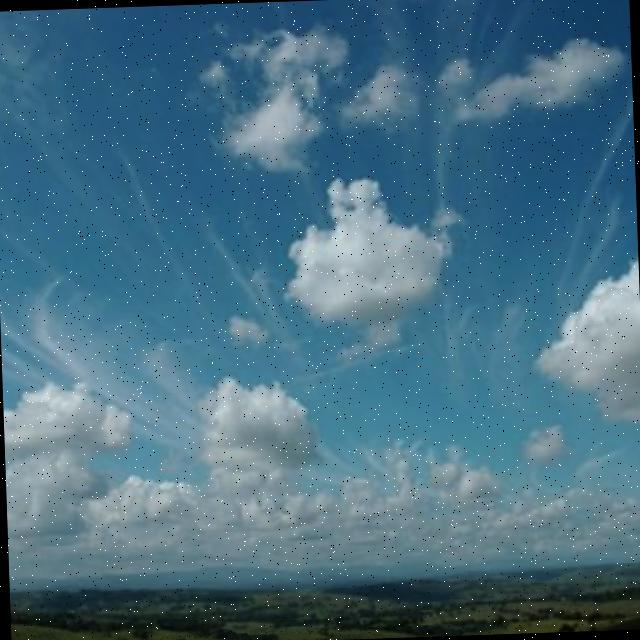Cu: (1, 1, 640, 570)
